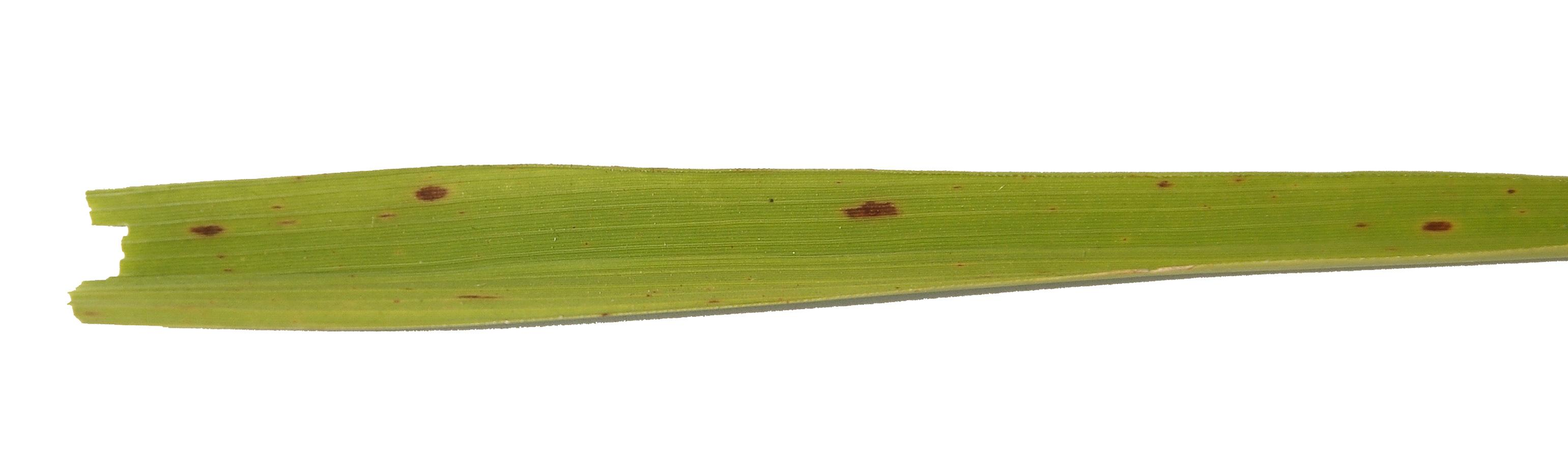Brown spot: (840, 185, 913, 229), (182, 210, 244, 249), (414, 176, 458, 210), (1418, 212, 1457, 239), (1152, 175, 1184, 207)
